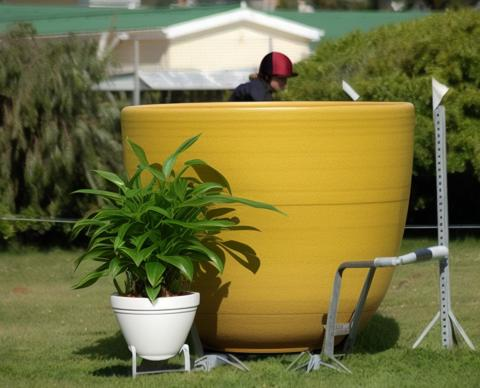person: (196, 49, 316, 220)
pottedplant: (72, 89, 413, 354)
